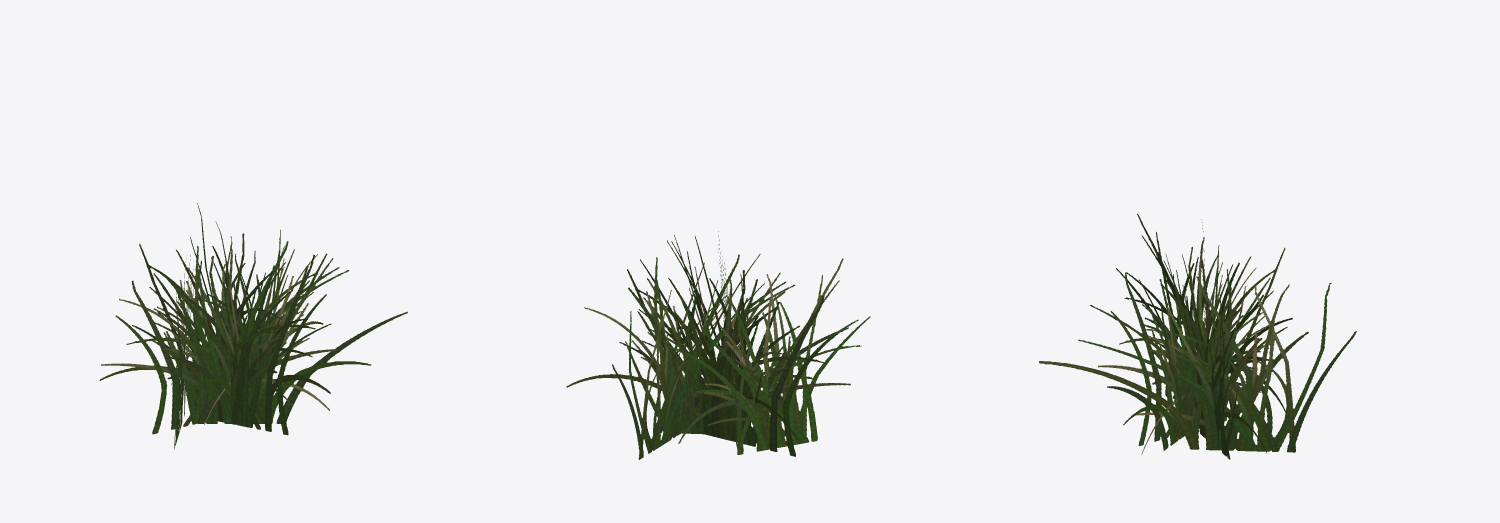
The model's file is trava_nizka_3.glb.
3 views of the same model, side by side, from view 1: azimuth 30°, elevation 25°; view 2: azimuth 150°, elevation 25°; view 3: azimuth 270°, elevation 25° (orthographic).
Visible parts, largest first — view 1: trava_nizka_3; view 2: trava_nizka_3; view 3: trava_nizka_3.
Part boxes in pixels (x1=…): trava_nizka_3: x1=99, y1=203, x2=407, y2=449; trava_nizka_3: x1=566, y1=231, x2=870, y2=459; trava_nizka_3: x1=1039, y1=214, x2=1356, y2=459.
Bounding box in the file's own units: 0.543 × 0.4316 × 0.5426.
1 material, 1 textured.
